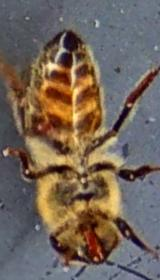varroa_mite: (22, 112, 58, 139)
